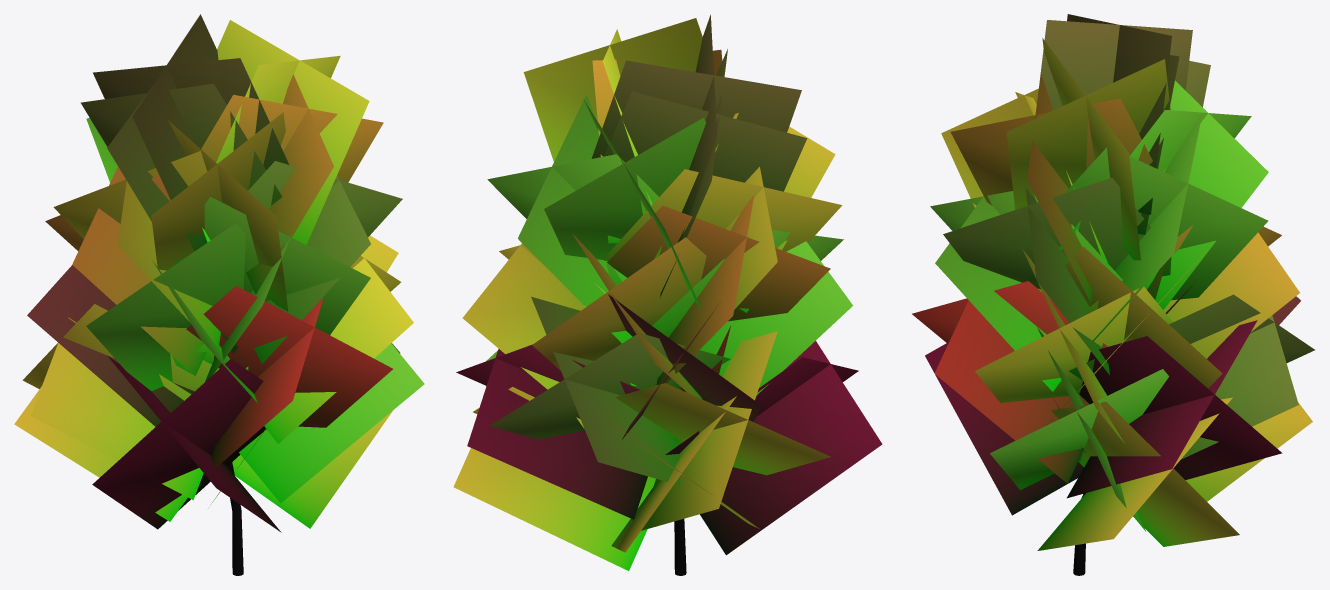
File: Tree_5.fbx
The picture shows the model from 3 angles, left to right: view 1: azimuth 30°, elevation 25°; view 2: azimuth 150°, elevation 25°; view 3: azimuth 270°, elevation 25°; orthographic projection. The views are drawn at different scales.
Parts seen in each view (by area): view 1: Tree_5; view 2: Tree_5; view 3: Tree_5.
Part boxes in pixels (x1=…): Tree_5: x1=14, y1=14, x2=424, y2=575; Tree_5: x1=453, y1=14, x2=882, y2=575; Tree_5: x1=912, y1=14, x2=1314, y2=575.
Size of the model in its own units: 1072 by 1509 by 1011.
